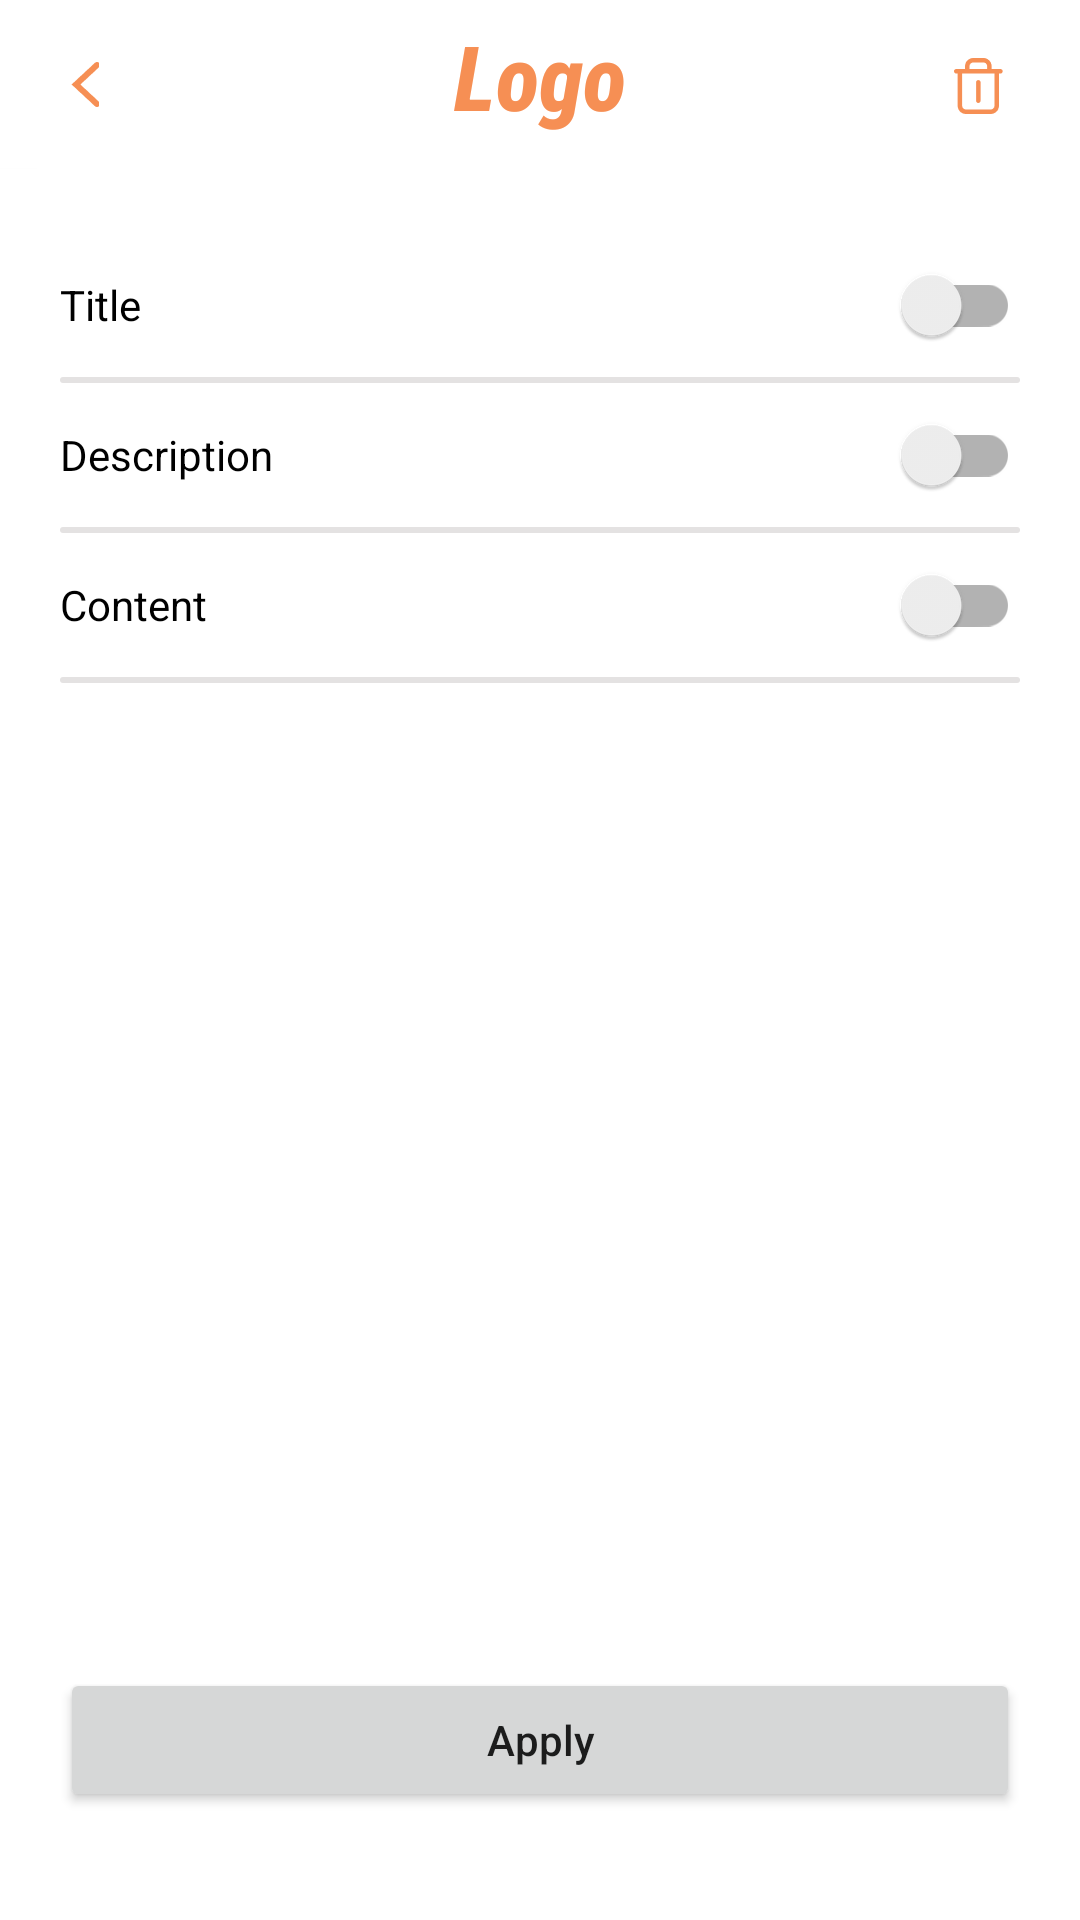

Where icons sit on this 1080px x 1920px app screen, as [x1,y1,x2,y2]:
clear: [954,58,1003,114]
